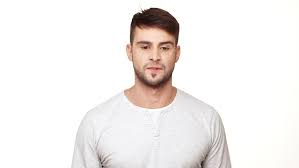white_male: (122, 23, 178, 82)
